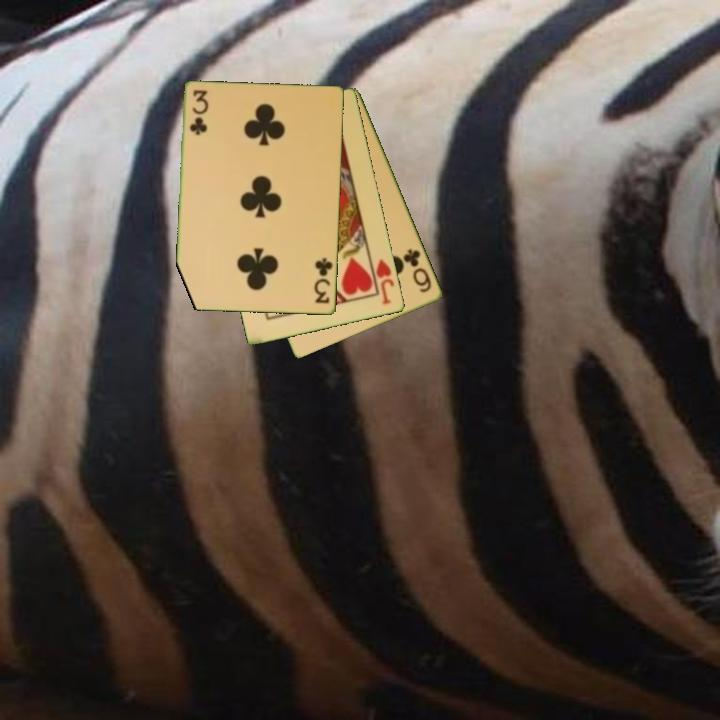3c: (311, 254, 336, 307), (186, 86, 209, 138)
6c: (400, 246, 435, 296)
Jh: (373, 255, 397, 308)
